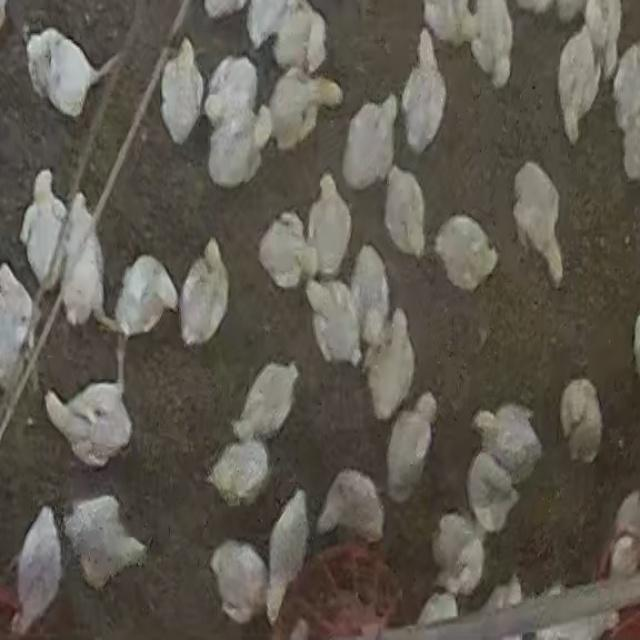chicken: (45, 368, 132, 472), (64, 492, 148, 593), (25, 27, 108, 121), (13, 504, 66, 634), (268, 66, 344, 156), (512, 160, 564, 288), (19, 167, 69, 296), (266, 487, 312, 627), (365, 308, 417, 424), (385, 394, 438, 506), (178, 236, 231, 346), (400, 32, 446, 158), (472, 402, 540, 486), (341, 95, 400, 191), (113, 251, 181, 334), (208, 538, 270, 628), (556, 26, 602, 146), (305, 276, 363, 368), (316, 468, 385, 545), (433, 213, 498, 293), (159, 36, 205, 148), (306, 174, 352, 285), (206, 435, 272, 508), (232, 361, 292, 441), (257, 210, 315, 292), (466, 454, 522, 535), (430, 511, 484, 595), (211, 106, 268, 185), (349, 244, 390, 351), (384, 168, 428, 264), (558, 378, 604, 466), (204, 52, 260, 114)
